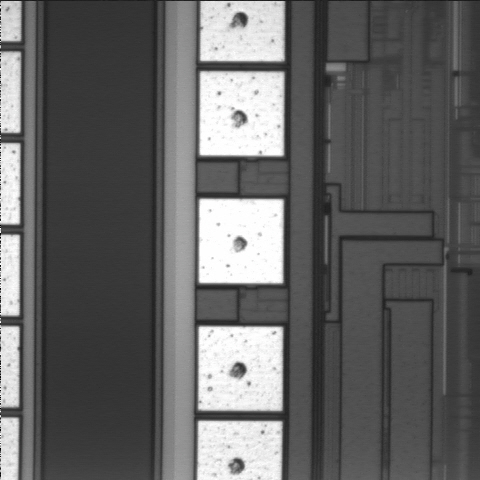pad: (199, 71, 284, 156), (198, 326, 283, 411), (199, 199, 283, 283)
